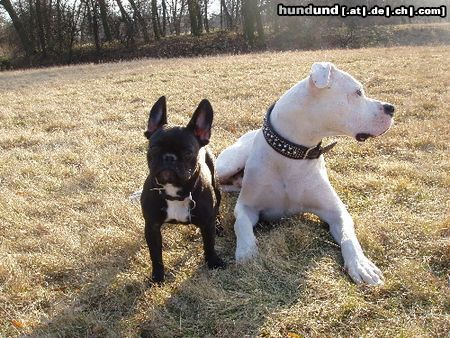dogo_argentino: (215, 61, 396, 287)
other_dog_breed: (139, 95, 226, 282)
